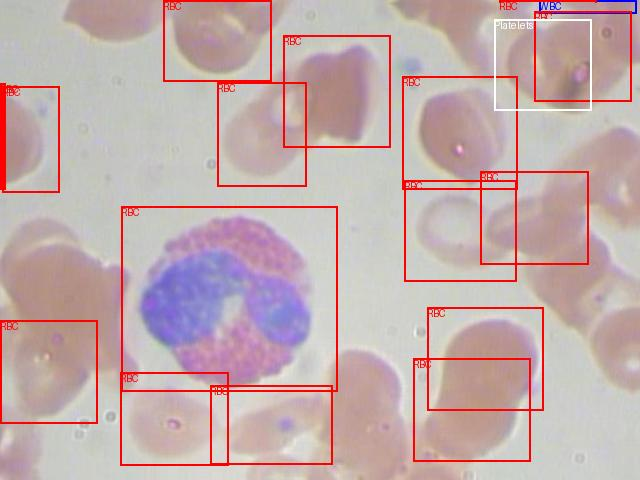Platelets: (494, 19, 591, 110)
RBC: (121, 206, 337, 391), (402, 76, 517, 189), (413, 358, 530, 461), (283, 35, 390, 147), (427, 307, 543, 410), (404, 180, 516, 281), (120, 372, 228, 465), (480, 171, 588, 264), (0, 320, 97, 423), (210, 385, 332, 464), (217, 82, 306, 186), (163, 0, 271, 81), (534, 11, 631, 101), (2, 86, 59, 192), (0, 83, 5, 189), (499, 0, 596, 1)
WBC: (539, 0, 636, 13)
